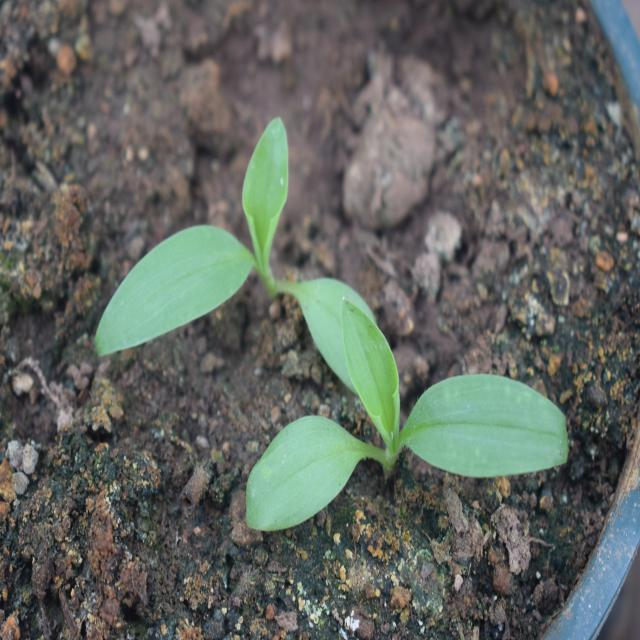Common Dayflower: (224, 281, 559, 550), (88, 120, 343, 364)
